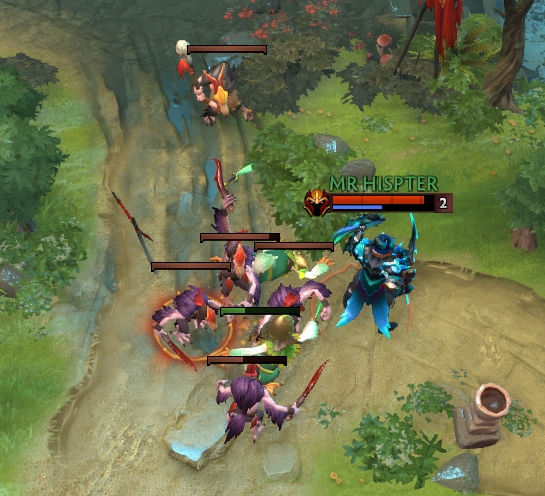allyCreep: (214, 304, 304, 318)
enemyCreep: (179, 40, 274, 57), (191, 230, 285, 244), (254, 238, 336, 254), (203, 352, 290, 367), (146, 258, 236, 272)
